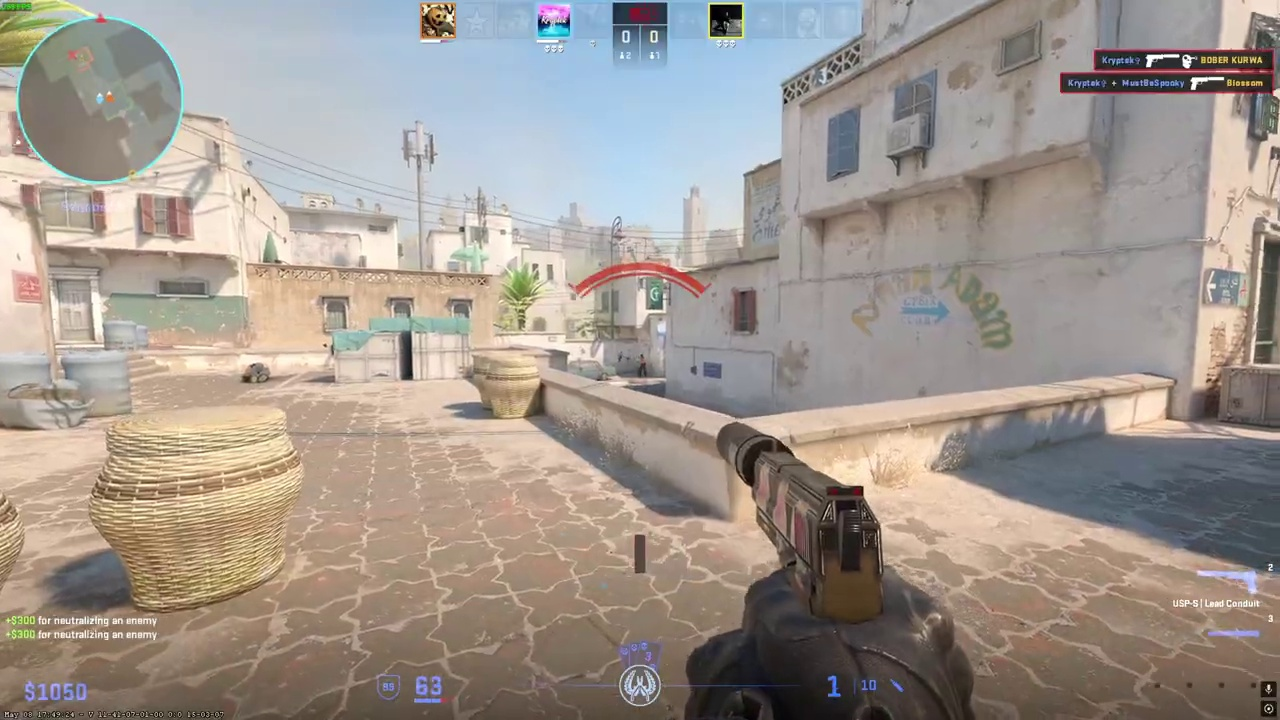Terrorist: (637, 354, 647, 377)
